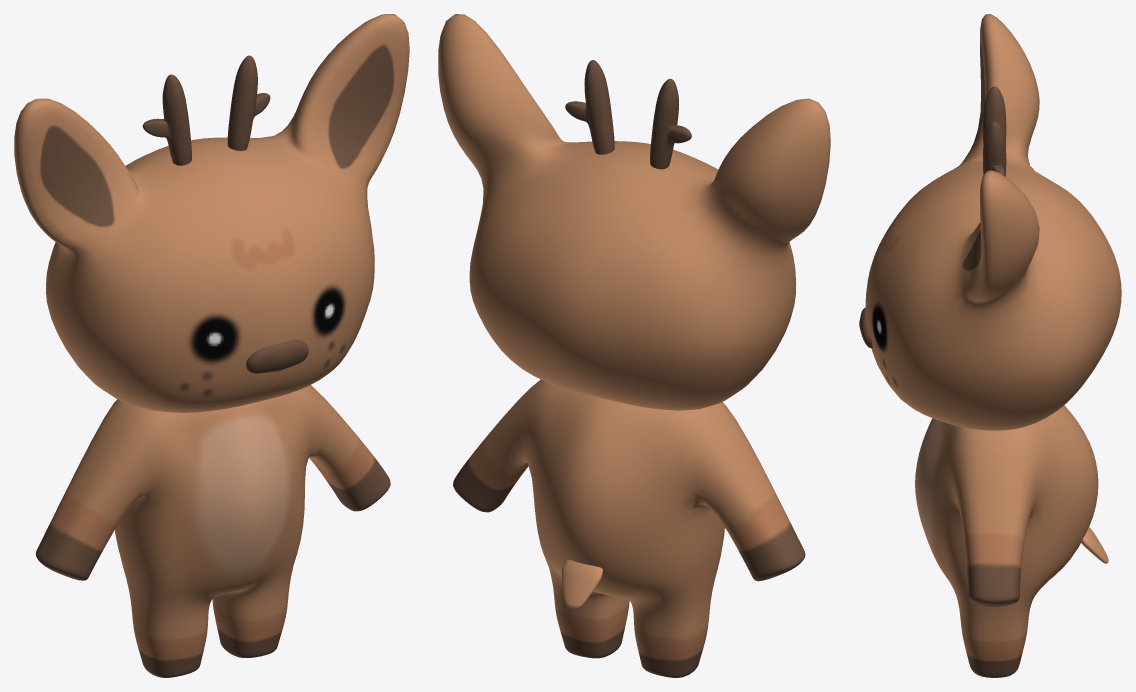
Rendered from deer2.fbx.
3 renders of one model, left to right at view 1: azimuth 30°, elevation 25°; view 2: azimuth 150°, elevation 25°; view 3: azimuth 270°, elevation 25°, orthographic. The views are drawn at different scales.
Visible parts, largest first — view 1: Roundcube.018, Roundcube.027, Roundcube.019, Roundcube.026, Roundcube.028; view 2: Roundcube.018, Roundcube.027, Roundcube.026, Roundcube.019, Roundcube.029; view 3: Roundcube.018, Roundcube.027, Roundcube.026, Roundcube.019, Roundcube.029.
Boxes of the visible parts, x1=… form: Roundcube.018: x1=14, y1=14, x2=409, y2=412; Roundcube.027: x1=35, y1=385, x2=390, y2=677; Roundcube.019: x1=142, y1=74, x2=191, y2=165; Roundcube.026: x1=227, y1=55, x2=270, y2=150; Roundcube.028: x1=246, y1=340, x2=308, y2=373; Roundcube.018: x1=438, y1=14, x2=830, y2=410; Roundcube.027: x1=453, y1=379, x2=805, y2=677; Roundcube.026: x1=565, y1=60, x2=614, y2=154; Roundcube.019: x1=650, y1=78, x2=691, y2=169; Roundcube.029: x1=562, y1=559, x2=602, y2=608; Roundcube.018: x1=865, y1=14, x2=1121, y2=430; Roundcube.027: x1=915, y1=405, x2=1098, y2=677; Roundcube.026: x1=983, y1=121, x2=1006, y2=176; Roundcube.019: x1=983, y1=86, x2=1006, y2=145; Roundcube.029: x1=1081, y1=527, x2=1108, y2=563.
Size of the model in its own units: 87.84 by 130 by 55.3.
Materials: 3 (1 with a texture image).
